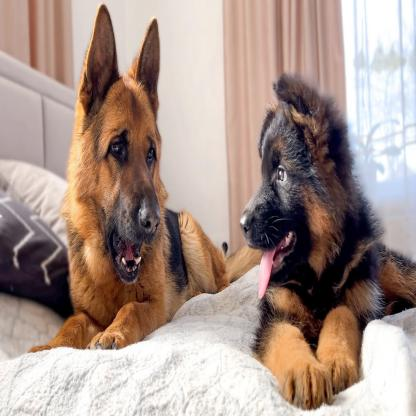german shepherd: (32, 2, 236, 353), (240, 76, 416, 398)
